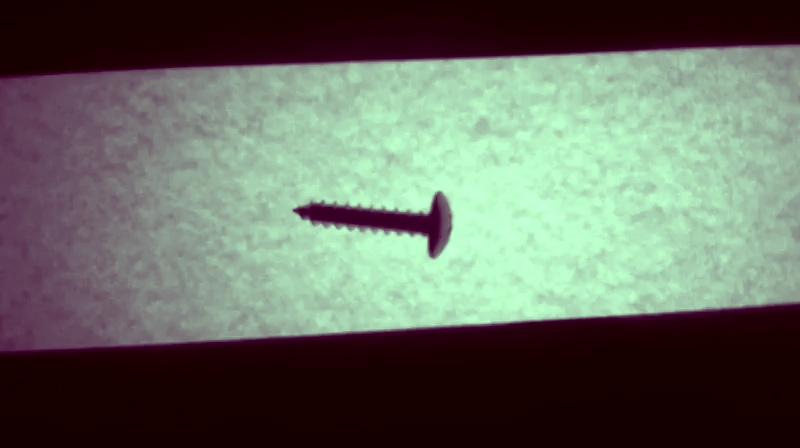S003: (289, 184, 457, 262)
